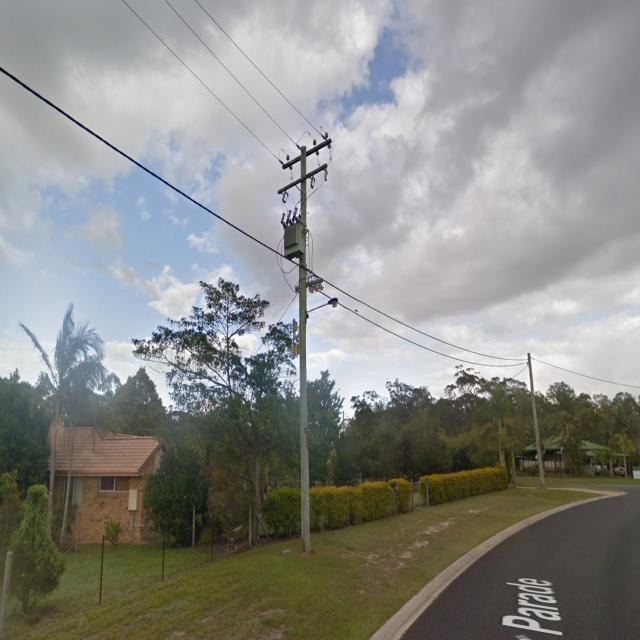HV-transmission: (278, 132, 333, 203)
crossarm: (277, 162, 328, 195), (282, 138, 332, 170), (295, 278, 323, 292)
streetlight: (305, 297, 338, 319)
timber-pole: (300, 145, 311, 554), (528, 353, 546, 489)
transformer: (280, 206, 306, 260)
